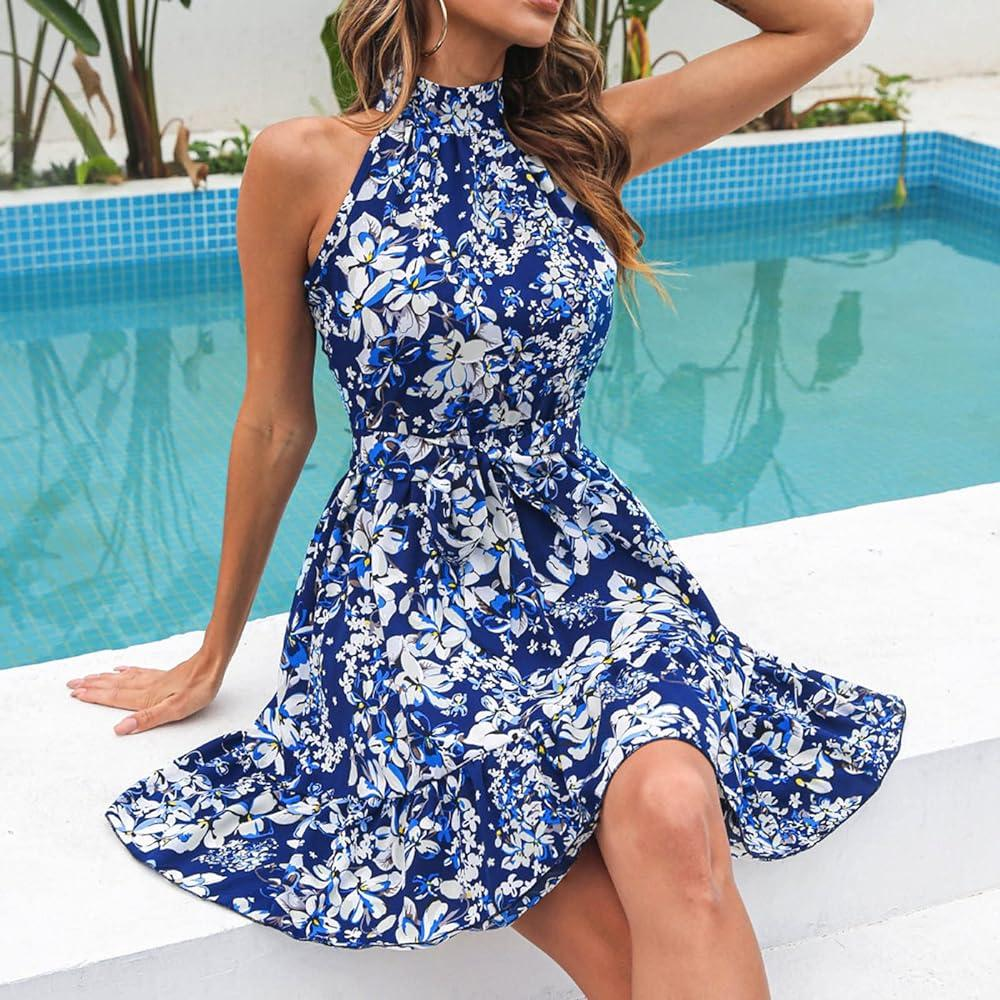dress: (103, 64, 908, 957)
